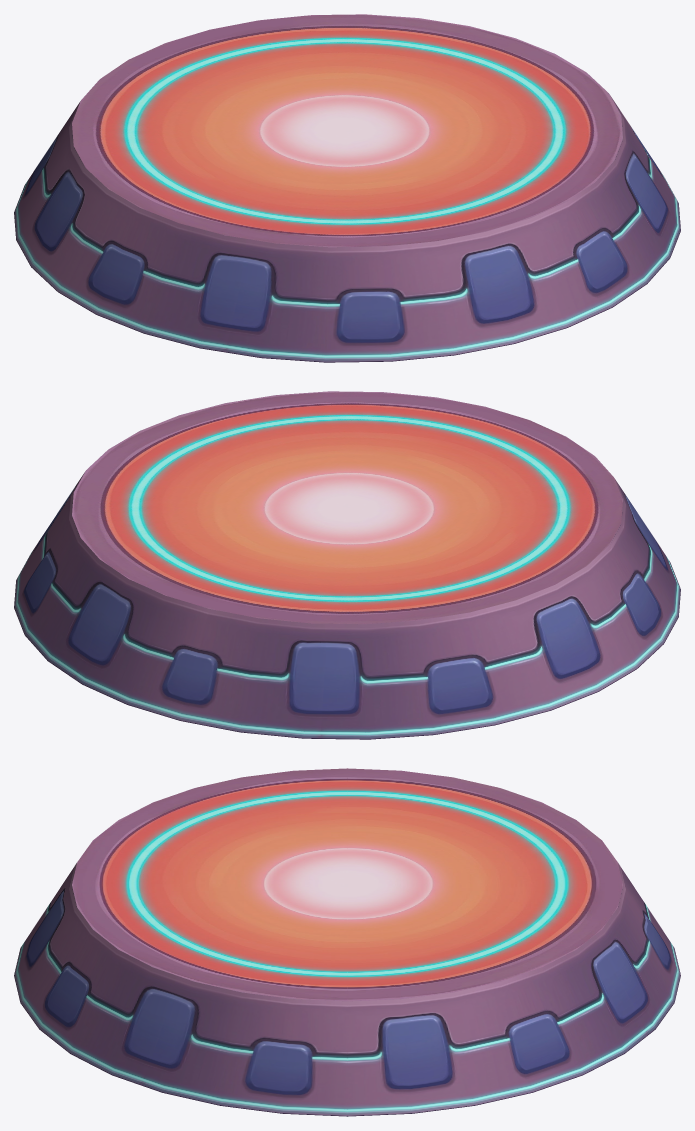
Rendered from MidPlatform.glb.
The picture shows the model from 3 angles, top to bottom: view 1: azimuth 30°, elevation 25°; view 2: azimuth 150°, elevation 25°; view 3: azimuth 270°, elevation 25°; orthographic projection.
Visible parts, largest first — view 1: MidPlatform; view 2: MidPlatform; view 3: MidPlatform.
Boxes of the visible parts, x1,y1,x2,y2 form: MidPlatform: (14, 14, 680, 362); MidPlatform: (14, 391, 680, 739); MidPlatform: (14, 768, 680, 1116).
Size of what is drawn, in the model's own units: 10 by 1.5 by 10.
Materials: 1 (1 with a texture image).
